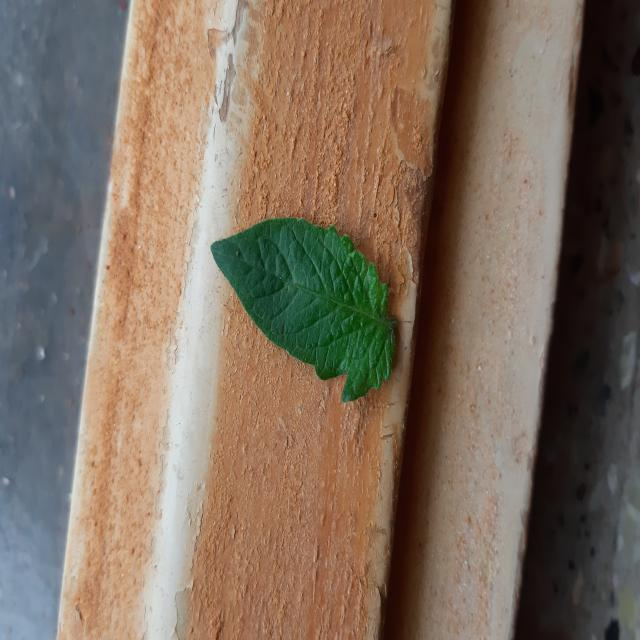tomato: (211, 218, 396, 402)
